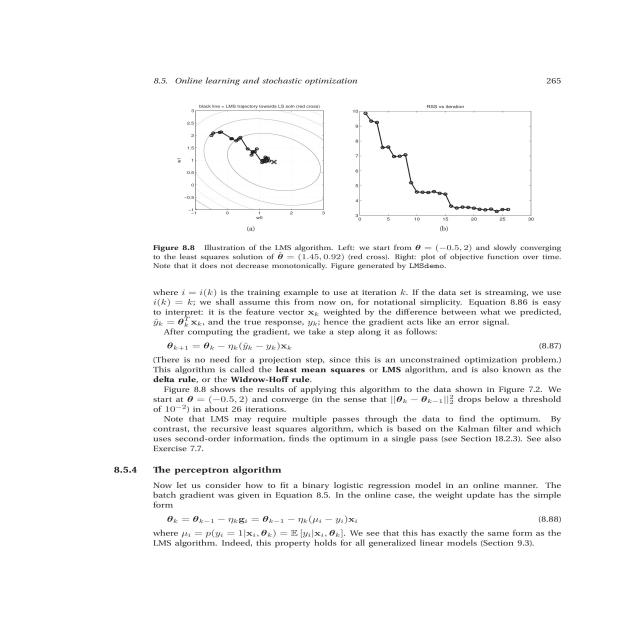diagram: (137, 89, 595, 277)
